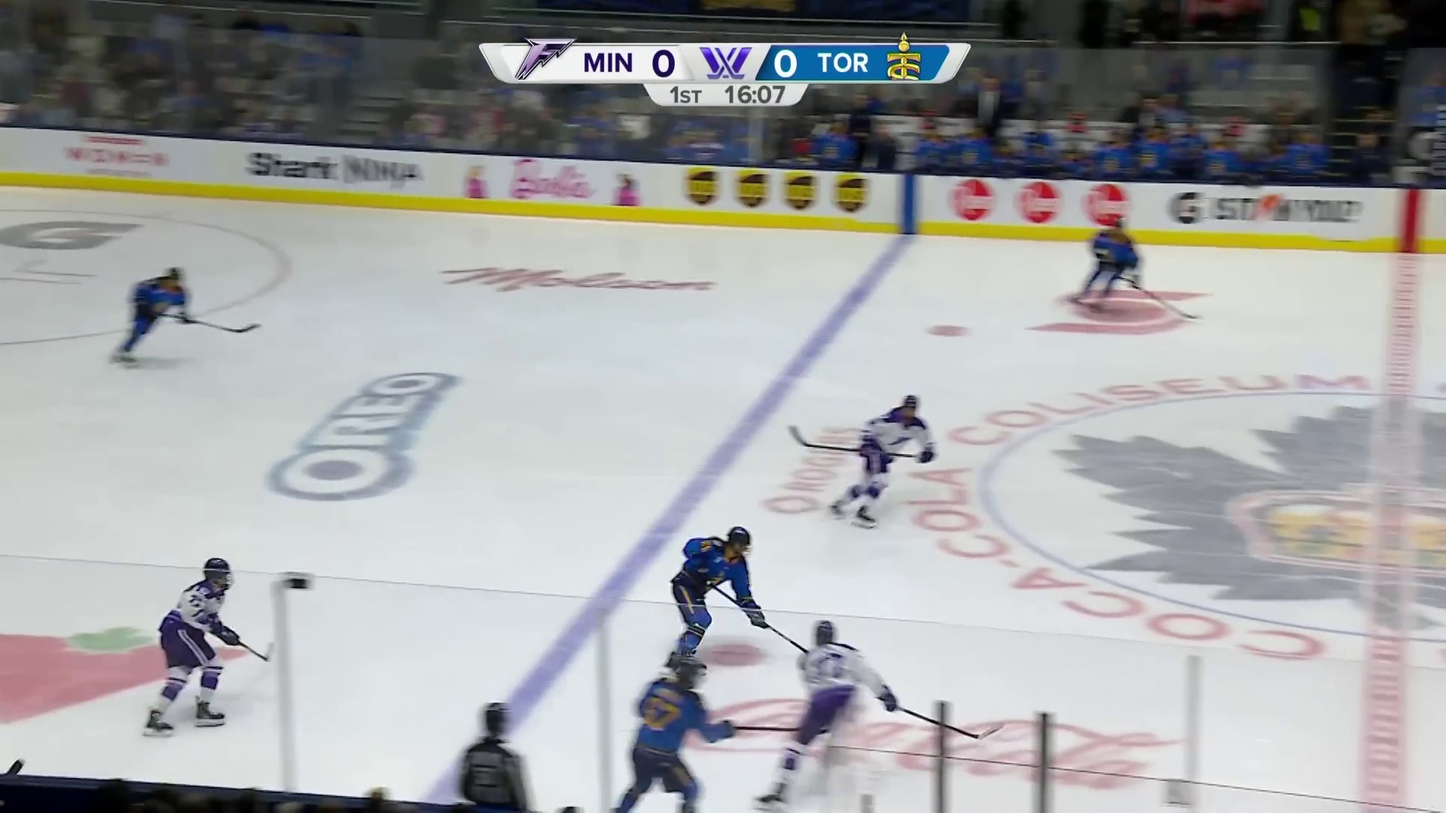player: (756, 615, 895, 805), (140, 554, 250, 733), (612, 655, 737, 812), (827, 393, 940, 530), (661, 526, 772, 661), (109, 263, 196, 365), (1063, 216, 1140, 309)
referee: (455, 696, 521, 805)
